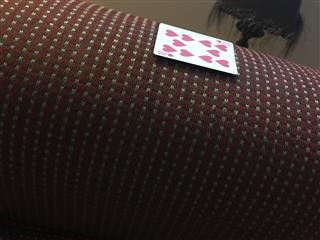TenOfHearts: (152, 21, 238, 75)
